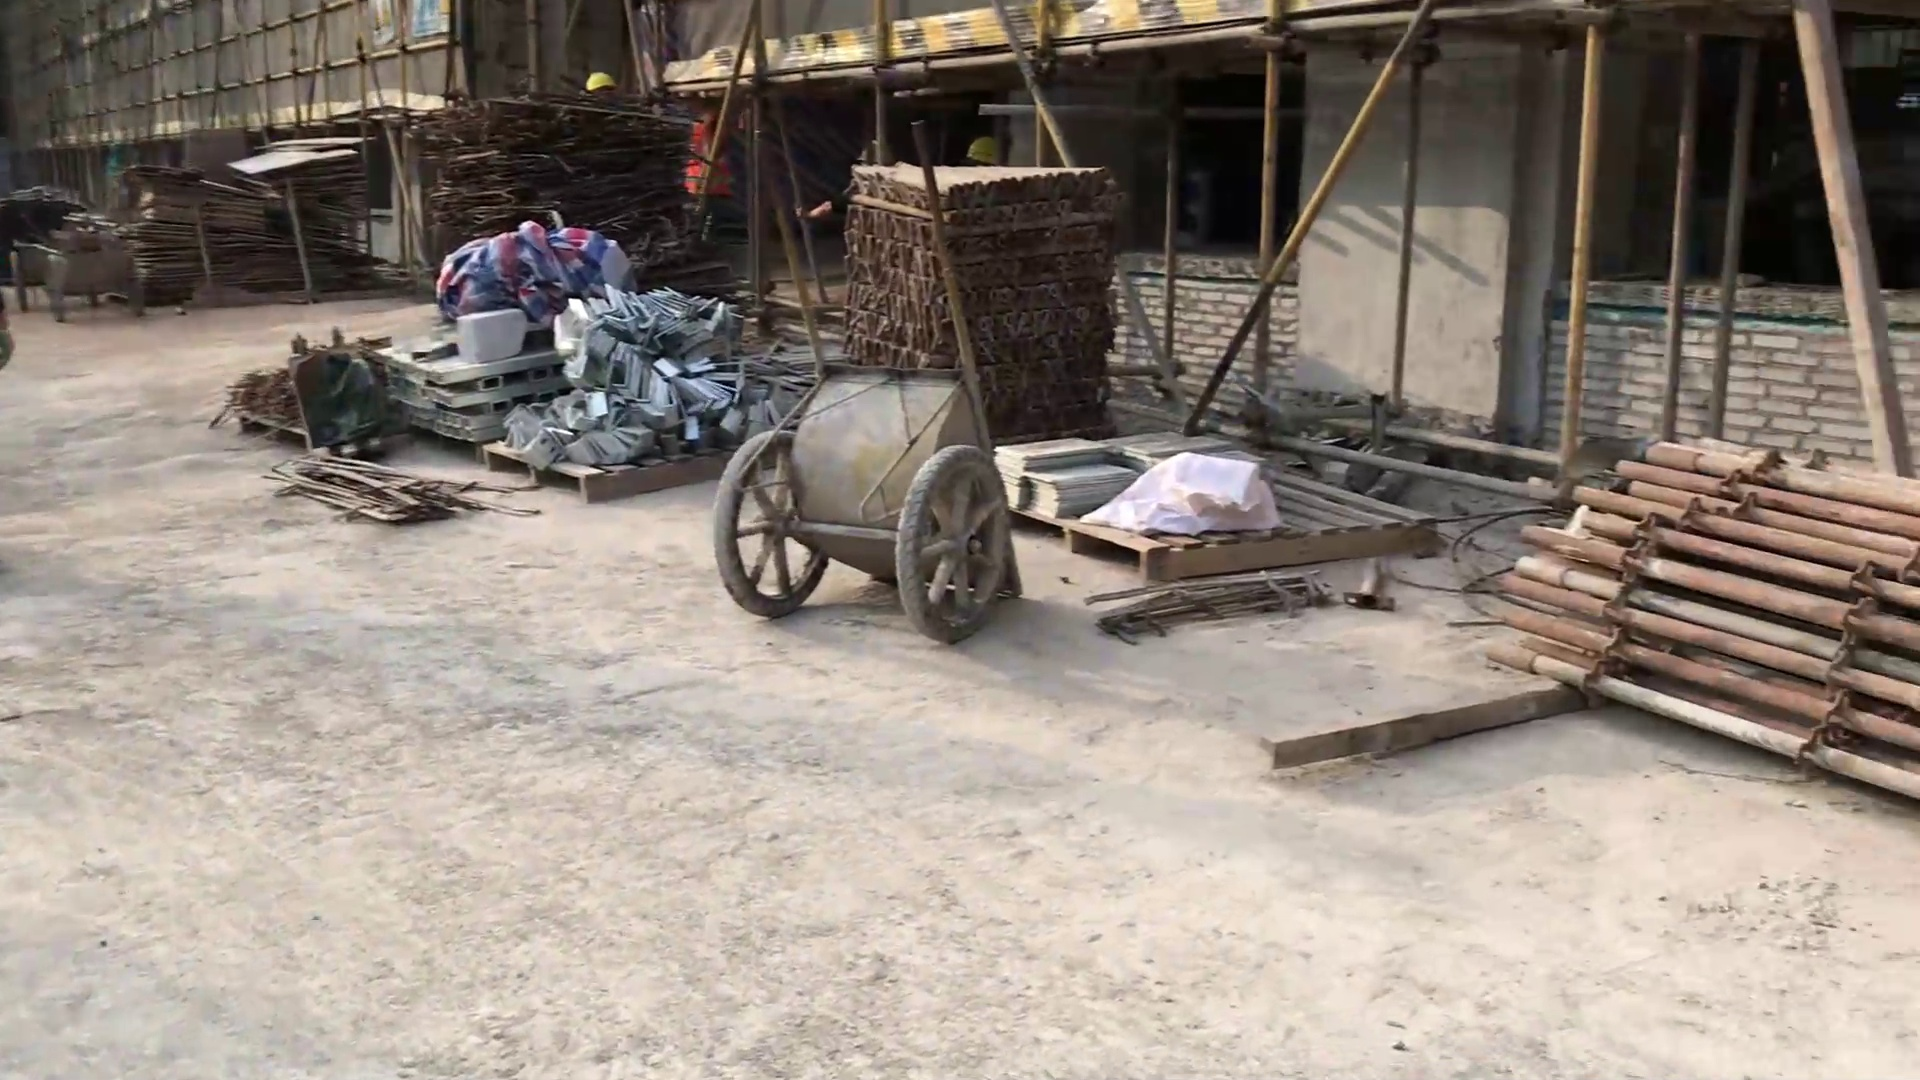board: (123, 129, 373, 295)
handcart: (707, 119, 1031, 645), (845, 162, 1120, 442), (26, 237, 152, 328)
helmet: (964, 131, 1001, 166), (585, 69, 616, 92)
scaffold: (1494, 429, 1920, 804)
slogan: (365, 1, 400, 54), (410, 1, 448, 34)
vest: (680, 104, 737, 200)
